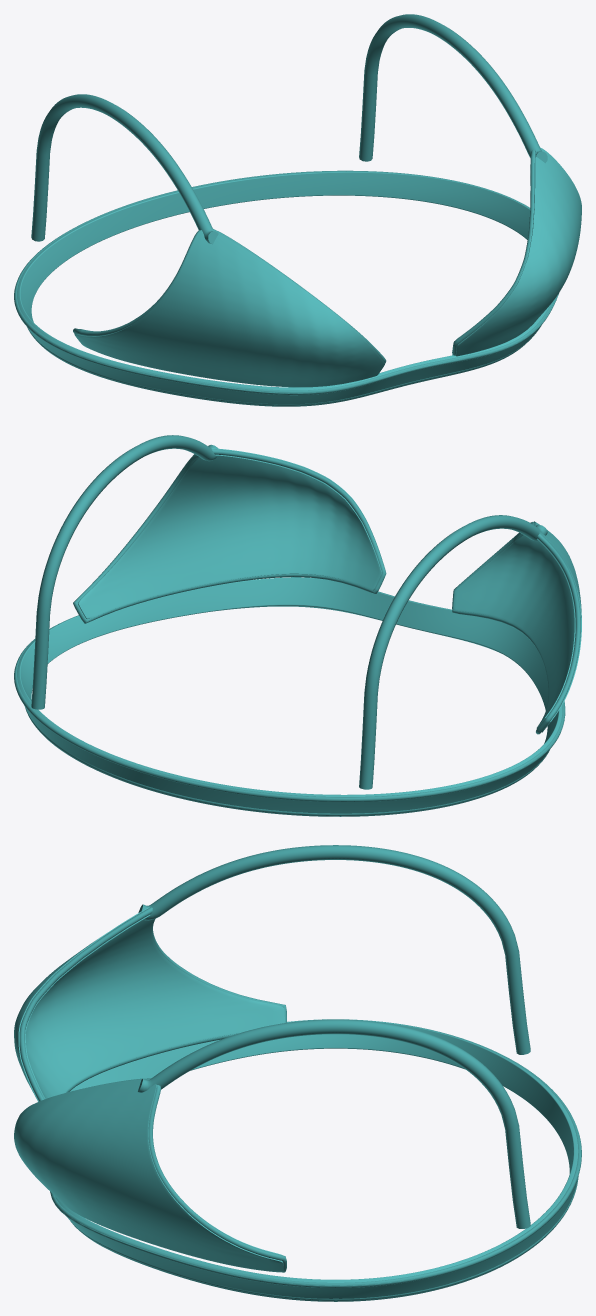
Rendered from Feminine-triangle-top.glb.
The picture shows the model from 3 angles, top to bottom: view 1: azimuth 30°, elevation 25°; view 2: azimuth 150°, elevation 25°; view 3: azimuth 270°, elevation 25°; orthographic projection. The views are drawn at different scales.
Visible parts, largest first — view 1: Clothing / triangle cup -1, Clothing / Triangle underband, Clothing / triangle cup 1, Triangle shoulder strap -1 export, Triangle shoulder strap 1 export, Triangle underband stitched edge.001 export, Triangle underband stitched edge export, Triangle / seated cup binding 1 export, Triangle / seated cup binding -1 export; view 2: Clothing / triangle cup 1, Clothing / Triangle underband, Clothing / triangle cup -1, Triangle shoulder strap -1 export, Triangle shoulder strap 1 export, Triangle underband stitched edge.001 export, Triangle / seated cup binding 1 export, Triangle / seated cup binding -1 export, Triangle underband stitched edge export; view 3: Clothing / triangle cup -1, Clothing / triangle cup 1, Clothing / Triangle underband, Triangle shoulder strap 1 export, Triangle shoulder strap -1 export, Triangle underband stitched edge.001 export, Triangle / seated cup binding -1 export, Triangle / seated cup binding 1 export, Triangle underband stitched edge export.
Part boxes in pixels (bbox=[...]): Clothing / triangle cup -1: bbox=[74, 229, 385, 387]; Clothing / Triangle underband: bbox=[15, 171, 558, 406]; Clothing / triangle cup 1: bbox=[455, 147, 581, 356]; Triangle shoulder strap -1 export: bbox=[31, 94, 218, 244]; Triangle shoulder strap 1 export: bbox=[359, 14, 547, 163]; Triangle underband stitched edge.001 export: bbox=[14, 170, 557, 395]; Triangle underband stitched edge export: bbox=[27, 326, 540, 405]; Triangle / seated cup binding 1 export: bbox=[452, 150, 535, 355]; Triangle / seated cup binding -1 export: bbox=[73, 228, 386, 362]; Clothing / triangle cup 1: bbox=[78, 448, 381, 618]; Clothing / Triangle underband: bbox=[17, 577, 565, 816]; Clothing / triangle cup -1: bbox=[453, 521, 581, 732]; Triangle shoulder strap -1 export: bbox=[359, 515, 547, 789]; Triangle shoulder strap 1 export: bbox=[31, 435, 218, 709]; Triangle underband stitched edge.001 export: bbox=[14, 591, 565, 801]; Triangle / seated cup binding 1 export: bbox=[73, 449, 386, 623]; Triangle / seated cup binding -1 export: bbox=[452, 522, 580, 734]; Triangle underband stitched edge export: bbox=[25, 708, 550, 815]; Clothing / triangle cup -1: bbox=[14, 907, 284, 1101]; Clothing / triangle cup 1: bbox=[14, 1079, 283, 1272]; Clothing / Triangle underband: bbox=[53, 1019, 580, 1301]; Triangle shoulder strap 1 export: bbox=[138, 1019, 530, 1228]; Triangle shoulder strap -1 export: bbox=[138, 845, 530, 1054]; Triangle underband stitched edge.001 export: bbox=[50, 1021, 581, 1287]; Triangle / seated cup binding -1 export: bbox=[19, 907, 286, 1101]; Triangle / seated cup binding 1 export: bbox=[80, 1078, 286, 1272]; Triangle underband stitched edge export: bbox=[70, 1176, 578, 1300].
Bounding box in the file's own units: 0.6313 × 0.2687 × 0.5704.
